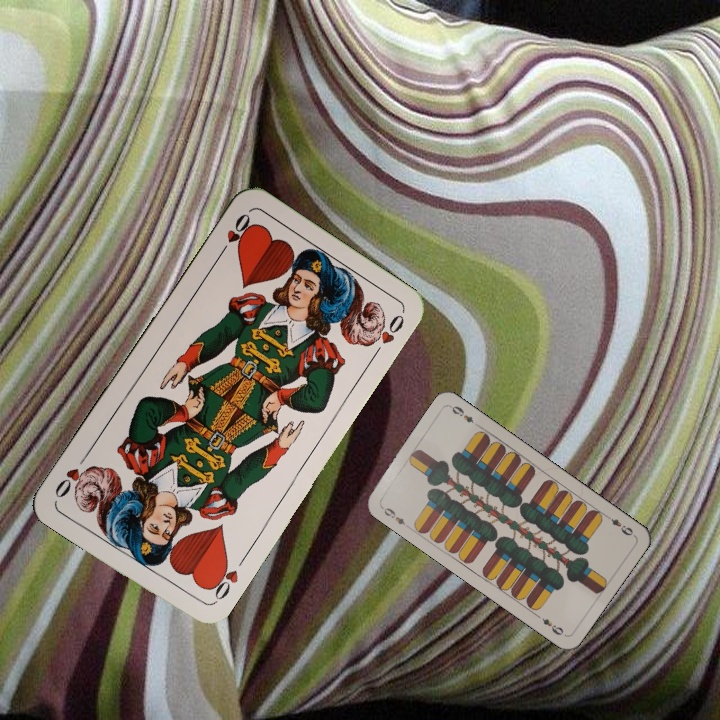E9: (377, 502, 412, 530), (601, 511, 636, 538)
HO: (213, 209, 254, 261), (203, 556, 241, 606)
